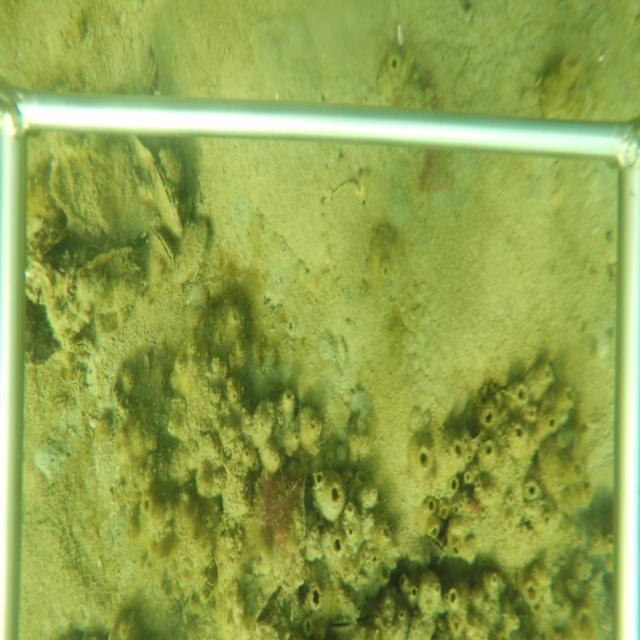Oyster-Closed: (147, 162, 185, 237), (174, 218, 212, 285), (146, 226, 175, 273)
